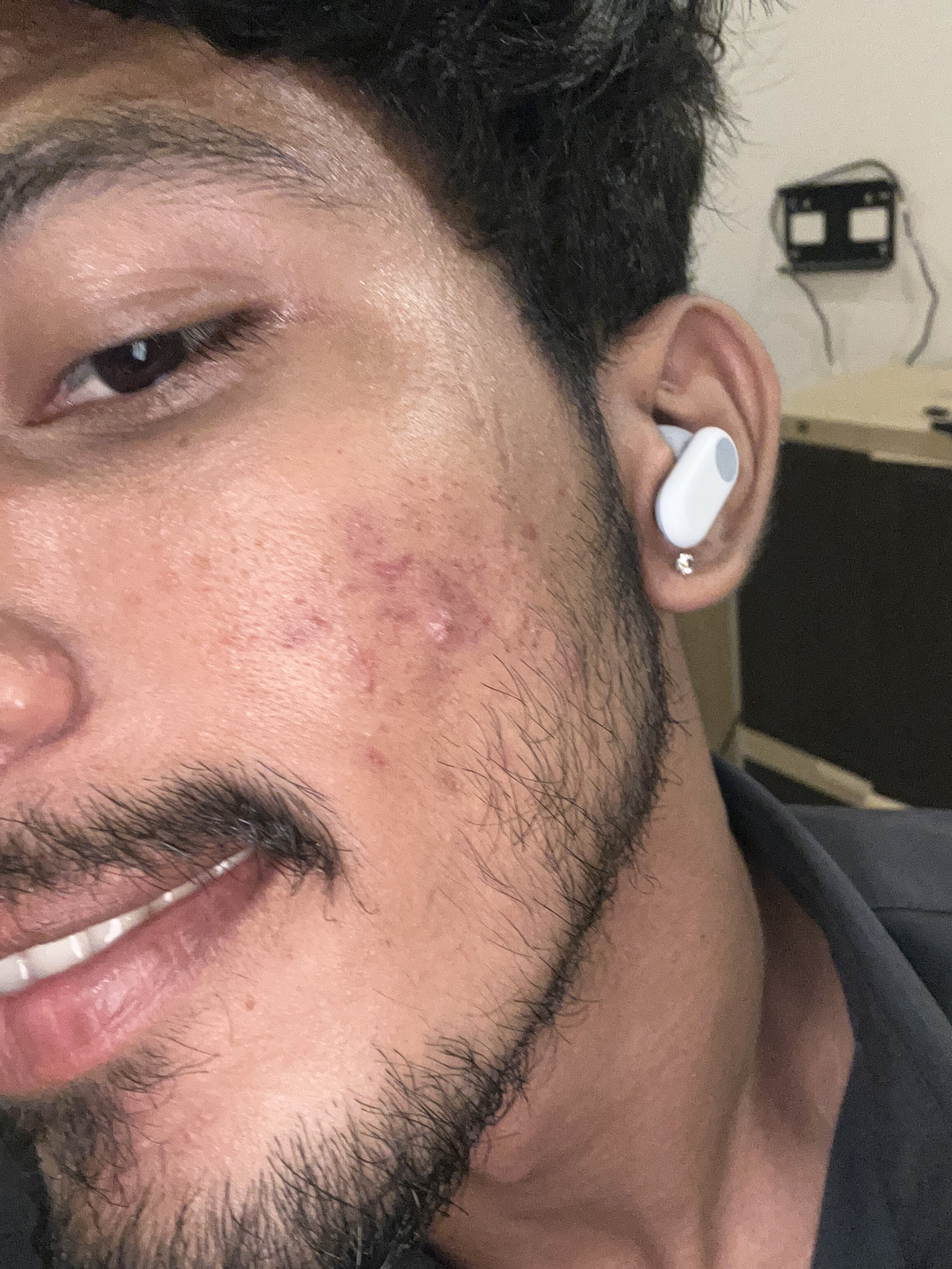nodule: (416, 593, 480, 659)
